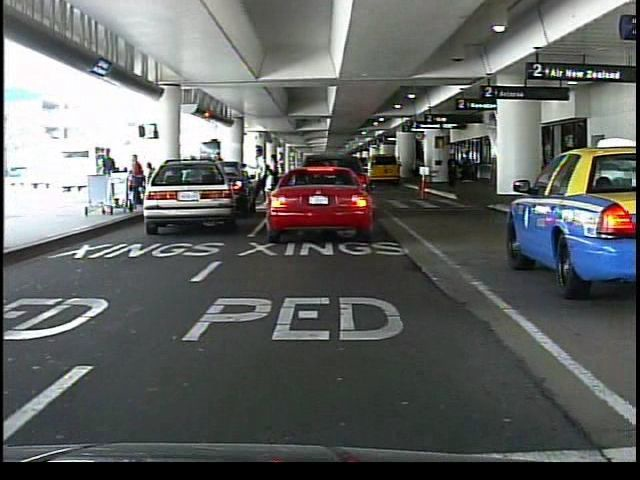person: (101, 148, 119, 205), (254, 148, 270, 209), (211, 149, 229, 202), (323, 153, 340, 209), (446, 153, 460, 189)
